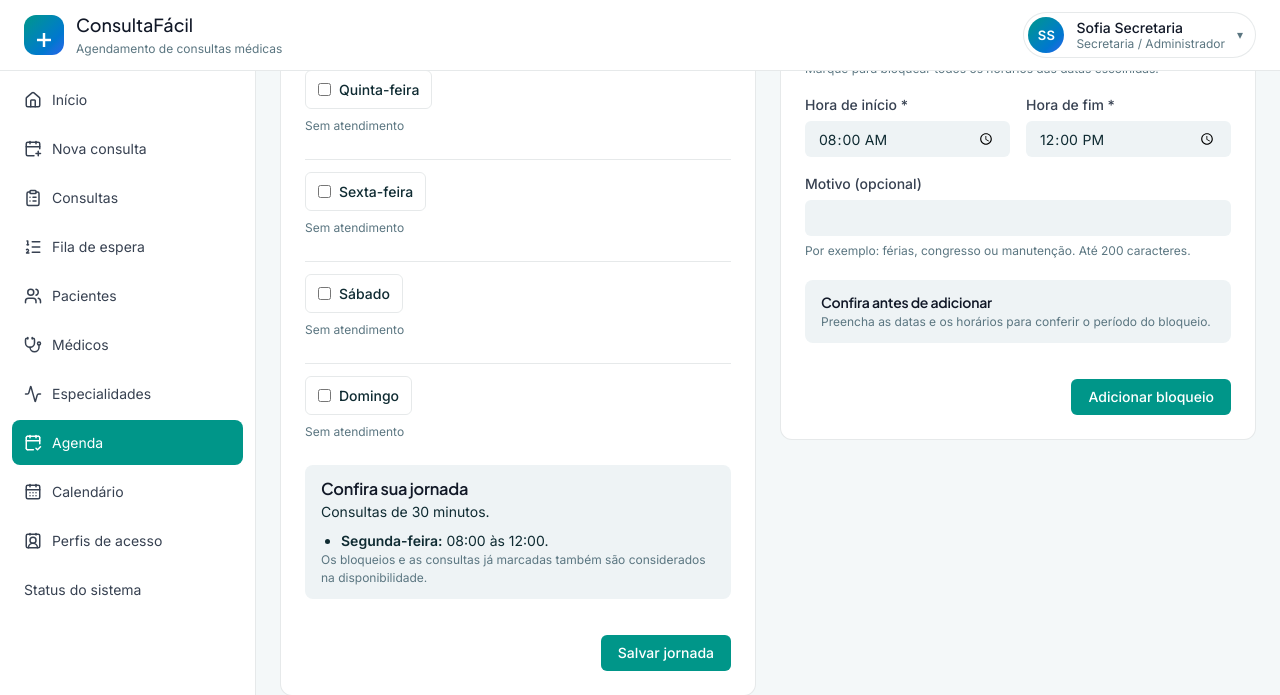
Test case: tela de agenda › mostra a mensagem de erro devolvida pela API
(page scrolled)
Step 1. Click the button "Salvar jornada" → (666, 653), box [601,635,731,671]
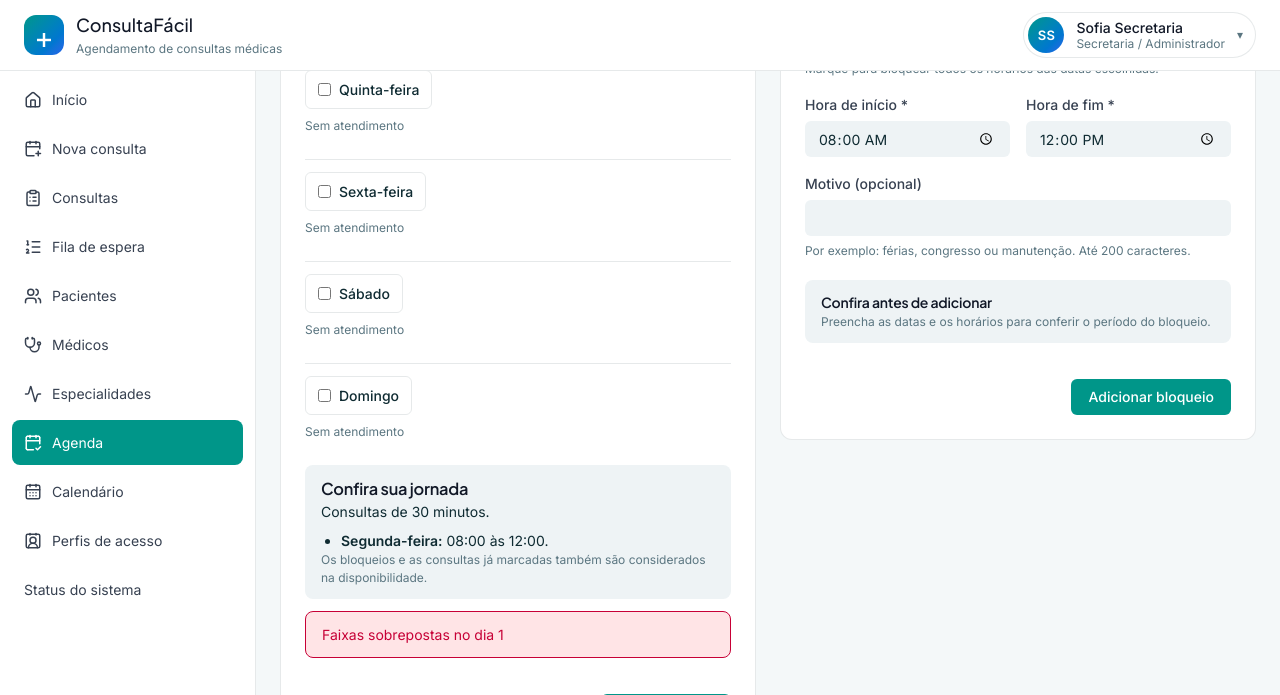
Now the text "Faixas sobrepostas no dia 1" is shown, box [322,624,504,645]
